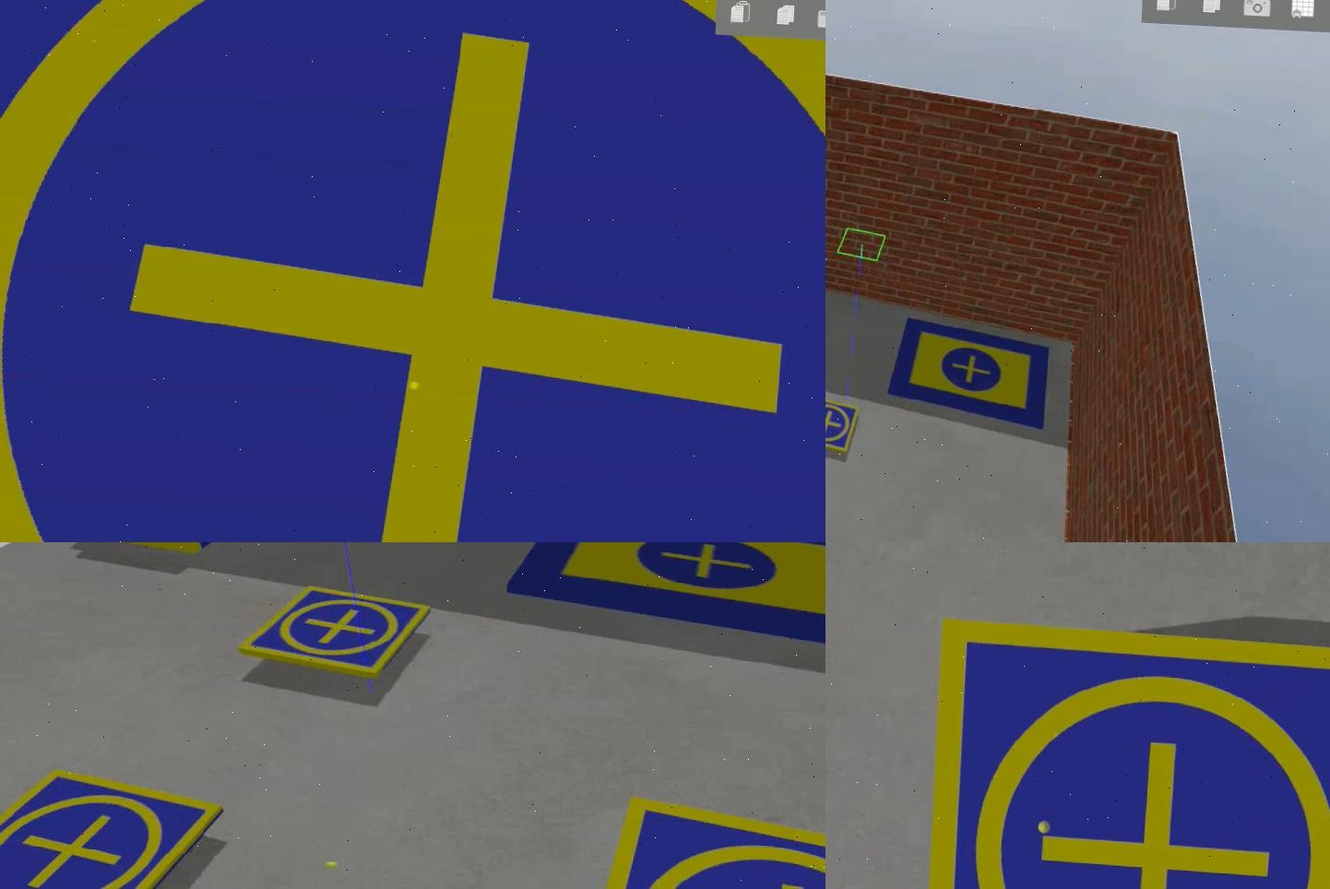large_base: (502, 542, 824, 659), (883, 319, 1047, 430)
small_base: (0, 1, 824, 542), (914, 619, 1328, 889), (0, 764, 220, 889), (233, 587, 431, 687), (824, 397, 859, 455)
